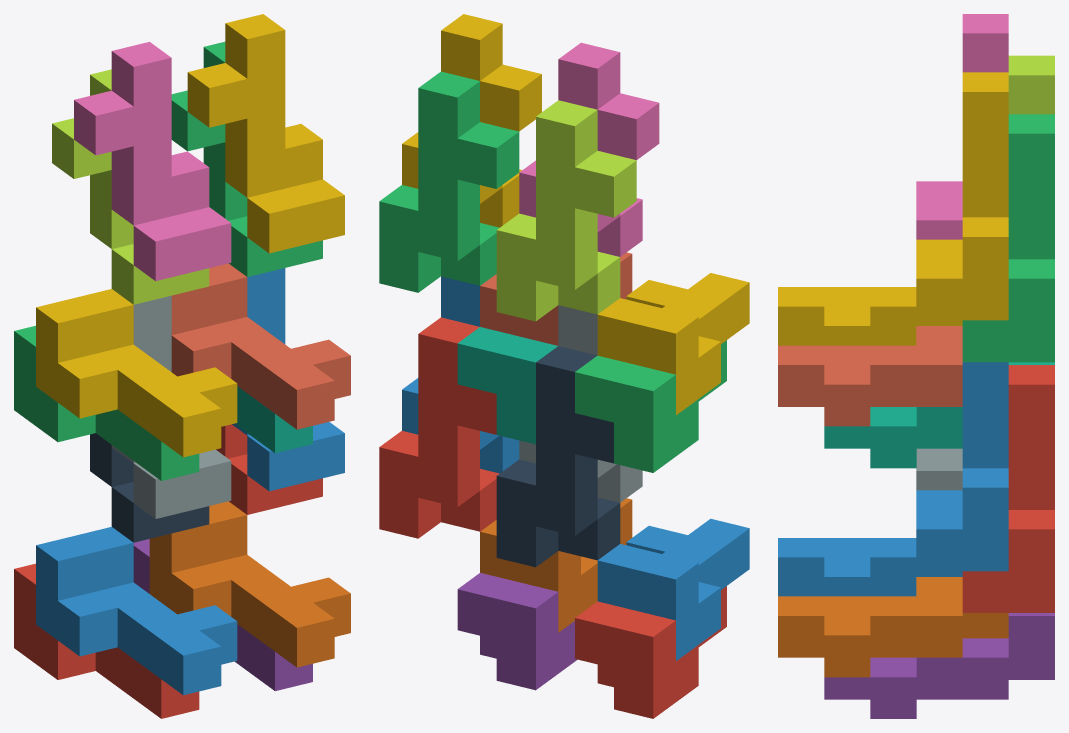
Rendered from tiling.obj.
The picture shows the model from 3 angles, left to right: view 1: azimuth 30°, elevation 25°; view 2: azimuth 150°, elevation 25°; view 3: azimuth 270°, elevation 25°; orthographic projection. The views are drawn at different scales.
Parts seen in each view (by area): view 1: copy_2_domain_4, copy_2_domain_8, copy_1_domain_2, copy_1_domain_4, copy_1_domain_6, copy_1_domain_8, copy_2_domain_3, copy_1_domain_1, copy_1_domain_3, copy_2_domain_7, copy_2_domain_2, copy_2_domain_6 (+4 smaller); view 2: copy_2_domain_3, copy_2_domain_7, copy_2_domain_1, copy_2_domain_5, copy_1_domain_4, copy_1_domain_2, copy_1_domain_1, copy_1_domain_3, copy_2_domain_4, copy_1_domain_5, copy_2_domain_8, copy_1_domain_7 (+4 smaller); view 3: copy_2_domain_8, copy_1_domain_6, copy_2_domain_7, copy_2_domain_6, copy_2_domain_5, copy_1_domain_8, copy_1_domain_5, copy_1_domain_4, copy_1_domain_2, copy_1_domain_7, copy_2_domain_4, copy_2_domain_3 (+1 smaller).
Part boxes in pixels (left/top/right/bottom): copy_2_domain_4: left=74, top=42, right=231, bottom=281; copy_2_domain_8: left=187, top=14, right=344, bottom=253; copy_1_domain_2: left=36, top=527, right=237, bottom=695; copy_1_domain_4: left=36, top=289, right=237, bottom=457; copy_1_domain_6: left=149, top=501, right=350, bottom=667; copy_1_domain_8: left=171, top=263, right=350, bottom=429; copy_2_domain_3: left=52, top=69, right=209, bottom=304; copy_1_domain_1: left=14, top=563, right=199, bottom=718; copy_1_domain_3: left=14, top=325, right=199, bottom=480; copy_2_domain_7: left=171, top=41, right=322, bottom=276; copy_2_domain_2: left=111, top=295, right=231, bottom=518; copy_2_domain_6: left=232, top=268, right=344, bottom=491; copy_2_domain_3: left=496, top=100, right=636, bottom=321; copy_2_domain_7: left=379, top=71, right=519, bottom=292; copy_2_domain_1: left=496, top=346, right=620, bottom=567; copy_2_domain_5: left=379, top=317, right=499, bottom=538; copy_1_domain_4: left=597, top=273, right=749, bottom=415; copy_1_domain_2: left=597, top=518, right=749, bottom=660; copy_1_domain_1: left=575, top=586, right=726, bottom=718; copy_1_domain_3: left=575, top=340, right=726, bottom=472; copy_2_domain_4: left=519, top=42, right=659, bottom=256; copy_1_domain_5: left=457, top=572, right=577, bottom=690; copy_2_domain_8: left=402, top=14, right=541, bottom=227; copy_1_domain_7: left=457, top=327, right=557, bottom=444; copy_2_domain_8: left=916, top=72, right=1008, bottom=320; copy_1_domain_6: left=778, top=577, right=1008, bottom=677; copy_2_domain_7: left=962, top=114, right=1054, bottom=362; copy_2_domain_6: left=916, top=362, right=1008, bottom=571; copy_2_domain_5: left=962, top=365, right=1054, bottom=612; copy_1_domain_8: left=778, top=326, right=962, bottom=426; copy_1_domain_5: left=824, top=613, right=1054, bottom=718; copy_1_domain_4: left=778, top=287, right=962, bottom=345; copy_1_domain_2: left=778, top=538, right=962, bottom=596; copy_1_domain_7: left=824, top=362, right=1054, bottom=468; copy_2_domain_4: left=916, top=14, right=1008, bottom=239; copy_2_domain_3: left=1008, top=55, right=1054, bottom=114.
Size of the model in its own units: 7 by 15 by 6.
